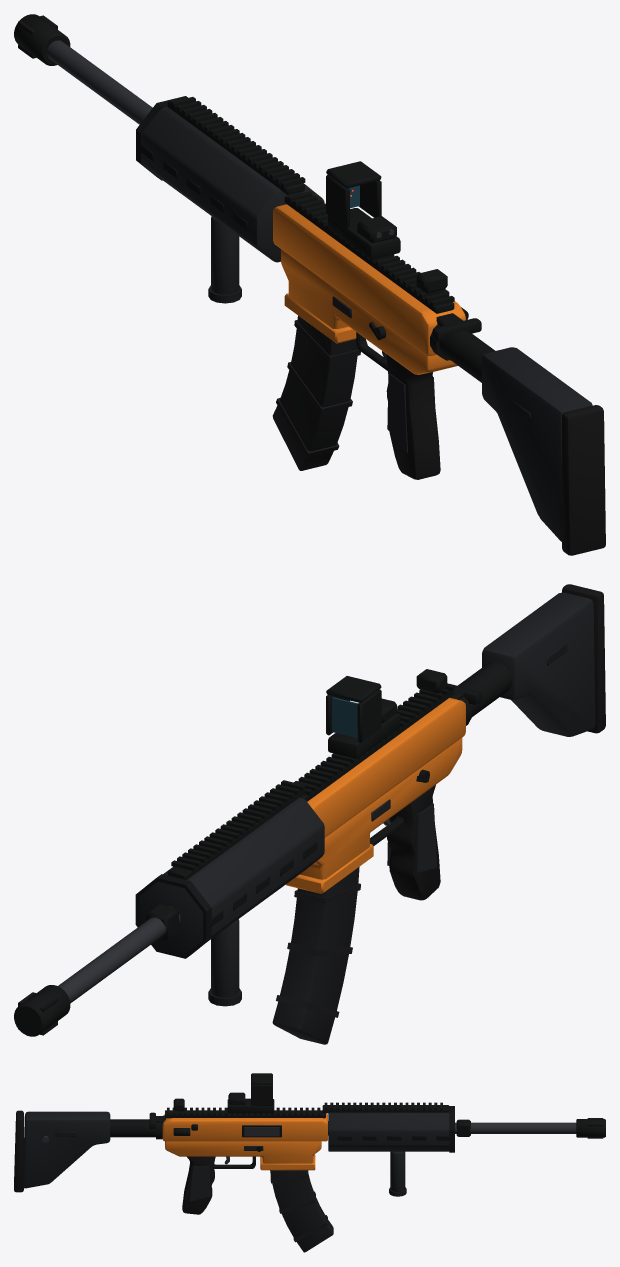
File: gun_44.glb
The picture shows the model from 3 angles, top to bottom: view 1: azimuth 30°, elevation 25°; view 2: azimuth 150°, elevation 25°; view 3: azimuth 270°, elevation 25°; orthographic projection. The views are drawn at different scales.
Visible parts, largest first — view 1: gun_44; view 2: gun_44; view 3: gun_44.
Boxes of the visible parts, x1,y1,x2,y2 form: gun_44: (14, 14, 605, 555); gun_44: (14, 584, 605, 1044); gun_44: (14, 1073, 605, 1252).
Bounding box in the file's own units: 0.0785 × 0.3441 × 1.07.
